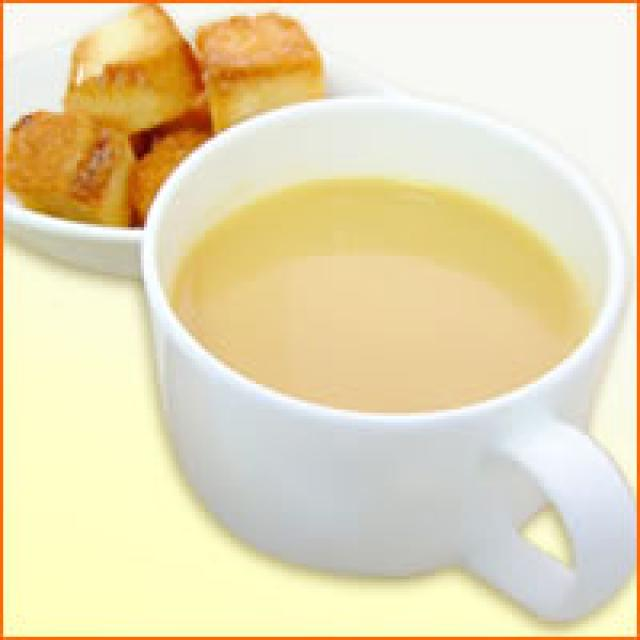汤锅炖物: (138, 93, 630, 576)
